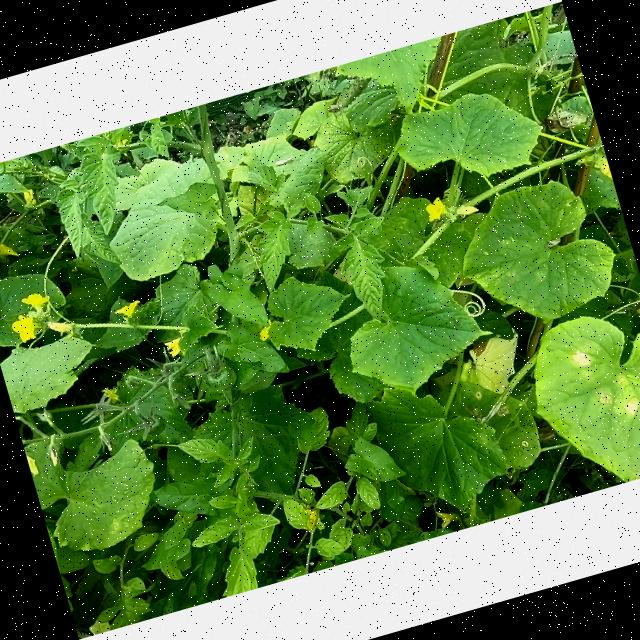Flowers: (8, 310, 40, 346), (420, 194, 448, 224), (112, 298, 144, 324), (22, 288, 52, 315), (432, 504, 458, 530), (162, 336, 186, 360), (0, 236, 20, 264), (256, 319, 276, 342), (100, 382, 120, 404), (20, 186, 39, 206)
